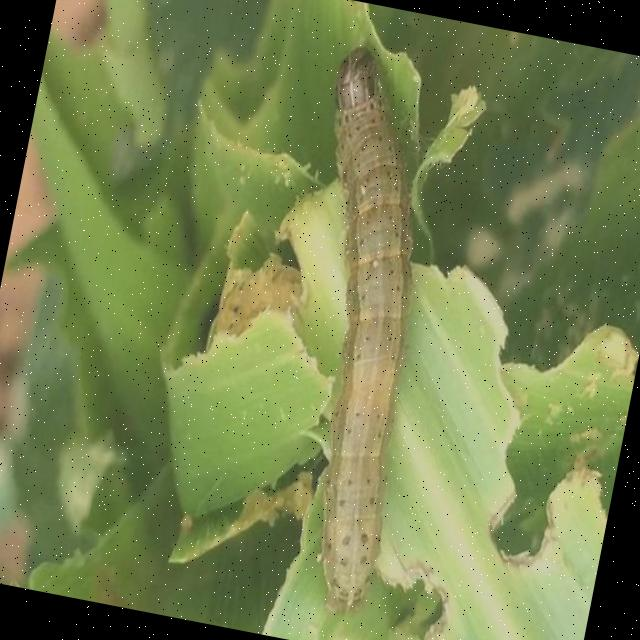worm: (235, 43, 476, 622)
